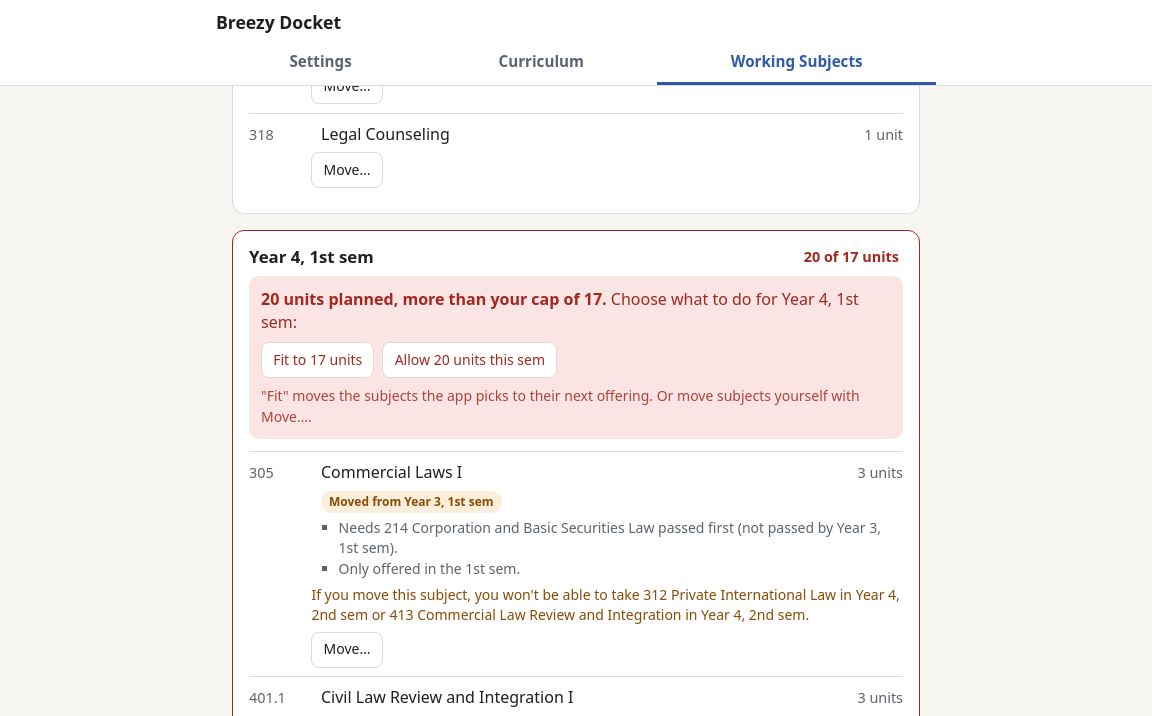
Scenario: working subjects › "Fit" lets the app choose what moves out of an over-cap semester
(page scrolled)
Click the button "Fit to 17 units" at (318, 360), box [261,342,374,378]
(page scrolled)
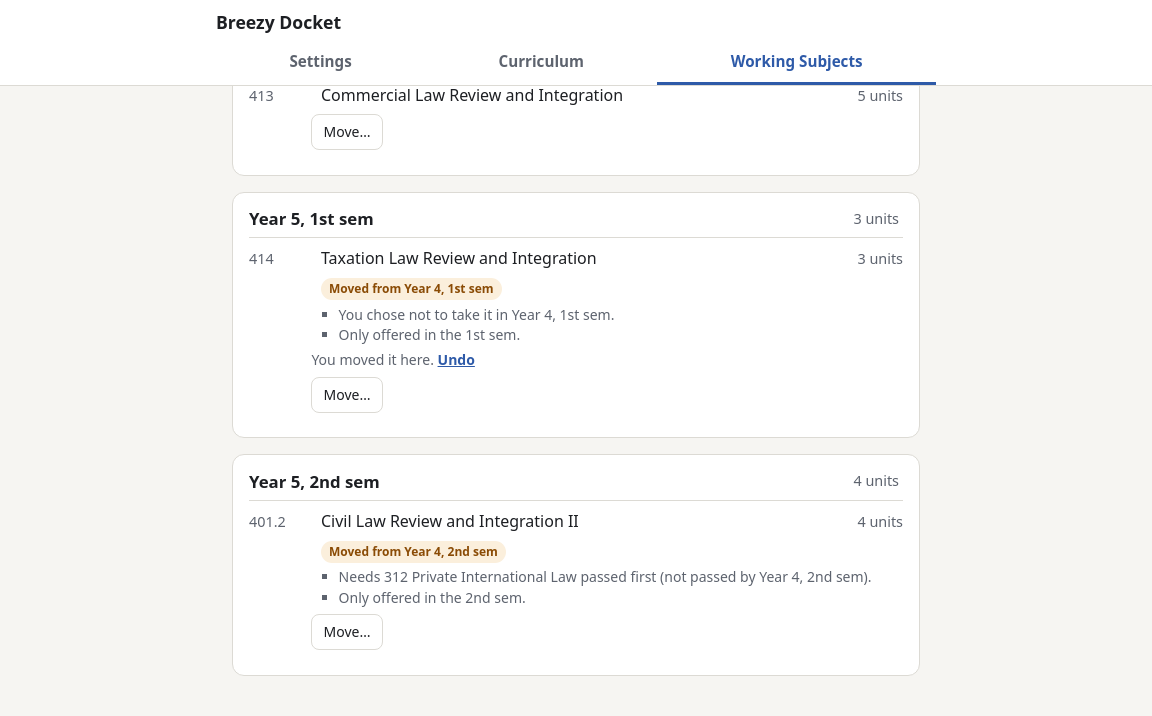
Expected: the text "You moved it here. Undo" is shown, [311,350,475,370]
